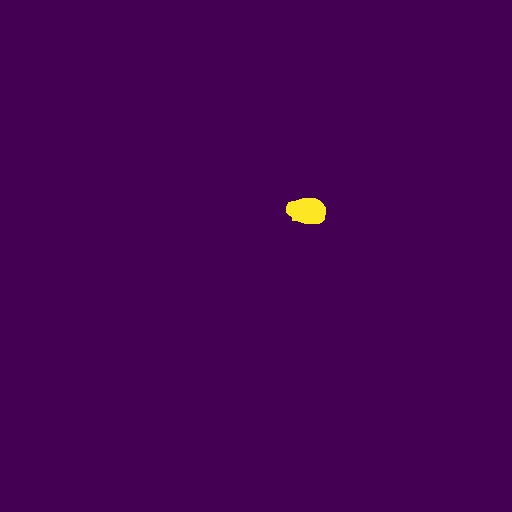Menigiomia_tumour: (286, 198, 326, 224)
